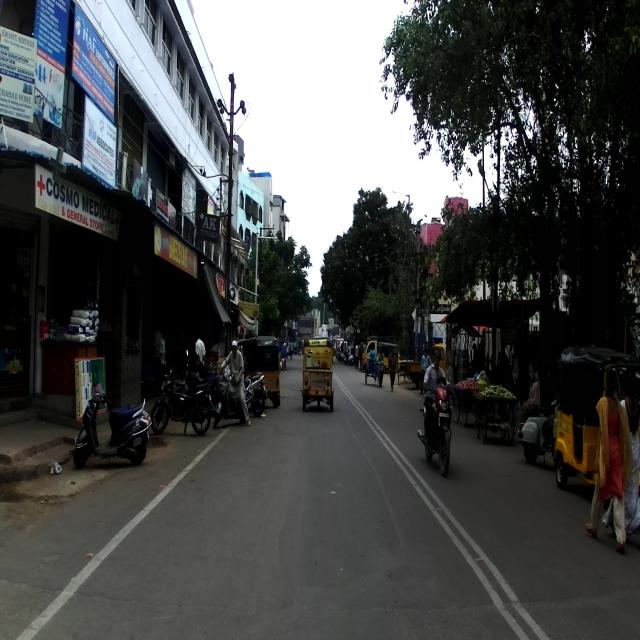autorickshaw: (552, 340, 640, 491)
motorcycle_Honda: (150, 368, 216, 436), (417, 373, 455, 473)
scooter: (73, 362, 151, 468), (516, 393, 565, 466), (212, 366, 254, 428)
